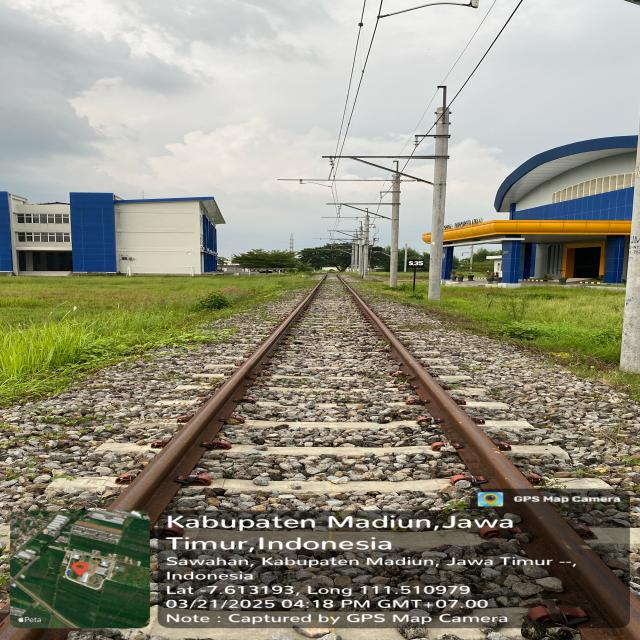rail-detection: (109, 273, 327, 526), (336, 273, 538, 499), (520, 497, 632, 627)
